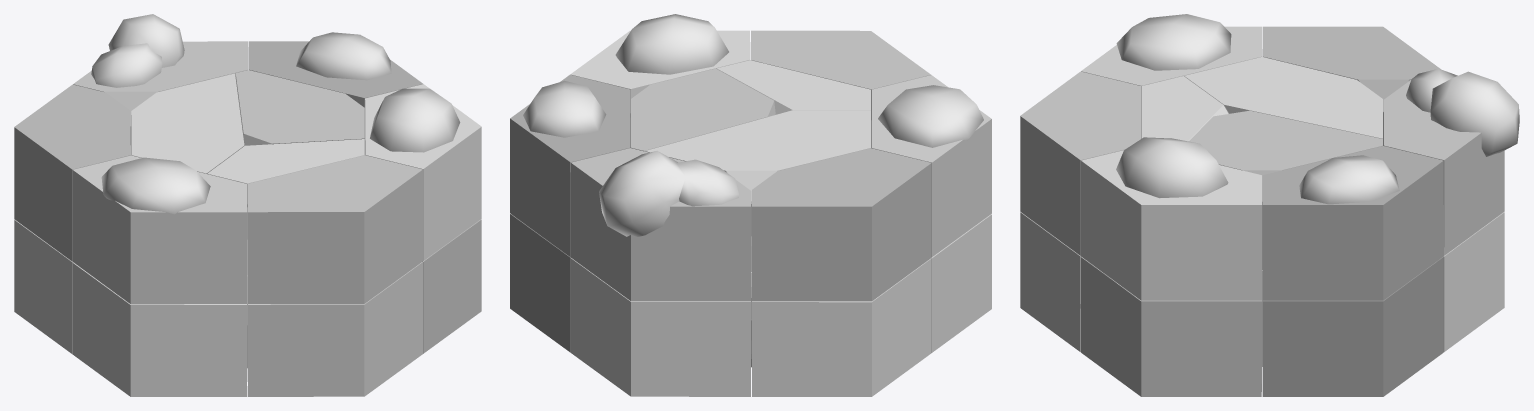
File: 2_Dest_Hex_20.fbx
The picture shows the model from 3 angles, left to right: view 1: azimuth 30°, elevation 25°; view 2: azimuth 150°, elevation 25°; view 3: azimuth 270°, elevation 25°; orthographic projection. The views are drawn at different scales.
Visible parts, largest first — view 1: Hex1.001_cell.023, Hex1.001_cell.021, Hex1.001_cell.020, Hex1.001_cell.022, Hex1.001_cell.019, Hex1.001_cell.025, Hex1.001_cell.015, Hex1.001_cell.012_cell.004, Hex1.001_cell.017, Hex1.001_cell.012_cell.005, Hex1.001_cell.018, Hex1.001_cell.024 (+1 smaller); view 2: Hex1.001_cell.015, Hex1.001_cell.025, Hex1.001_cell.014, Hex1.001_cell.024, Hex1.001_cell.017, Hex1.001_cell.023, Hex1.001_cell.012_cell.004, Hex1.001_cell.019, Hex1.001_cell.012_cell.005, Hex1.001_cell.021, Hex1.001_cell.022, Hex1.001_cell.016 (+1 smaller); view 3: Hex1.001_cell.019, Hex1.001_cell.017, Hex1.001_cell.016, Hex1.001_cell.018, Hex1.001_cell.015, Hex1.001_cell.021, Hex1.001_cell.012_cell.004, Hex1.001_cell.023, Hex1.001_cell.025, Hex1.001_cell.012_cell.005, Hex1.001_cell.014, Hex1.001_cell.020 (+1 smaller).
Part boxes in pixels (x1=…): Hex1.001_cell.023: x1=72, y1=155, x2=247, y2=304; Hex1.001_cell.021: x1=247, y1=155, x2=422, y2=303; Hex1.001_cell.020: x1=247, y1=262, x2=422, y2=396; Hex1.001_cell.022: x1=72, y1=262, x2=247, y2=396; Hex1.001_cell.019: x1=365, y1=84, x2=481, y2=260; Hex1.001_cell.025: x1=14, y1=84, x2=130, y2=261; Hex1.001_cell.015: x1=73, y1=14, x2=247, y2=154; Hex1.001_cell.012_cell.004: x1=131, y1=73, x2=244, y2=173; Hex1.001_cell.017: x1=248, y1=32, x2=422, y2=154; Hex1.001_cell.012_cell.005: x1=235, y1=70, x2=364, y2=145; Hex1.001_cell.018: x1=422, y1=219, x2=481, y2=353; Hex1.001_cell.024: x1=14, y1=219, x2=73, y2=354; Hex1.001_cell.015: x1=570, y1=148, x2=751, y2=301; Hex1.001_cell.025: x1=751, y1=148, x2=931, y2=301; Hex1.001_cell.014: x1=570, y1=258, x2=751, y2=396; Hex1.001_cell.024: x1=752, y1=258, x2=931, y2=396; Hex1.001_cell.017: x1=510, y1=74, x2=630, y2=256; Hex1.001_cell.023: x1=871, y1=75, x2=991, y2=256; Hex1.001_cell.012_cell.004: x1=645, y1=110, x2=870, y2=271; Hex1.001_cell.019: x1=570, y1=14, x2=749, y2=147; Hex1.001_cell.012_cell.005: x1=630, y1=68, x2=775, y2=151; Hex1.001_cell.021: x1=750, y1=30, x2=930, y2=148; Hex1.001_cell.022: x1=931, y1=214, x2=991, y2=352; Hex1.001_cell.016: x1=510, y1=213, x2=570, y2=352; Hex1.001_cell.019: x1=1081, y1=137, x2=1261, y2=300; Hex1.001_cell.017: x1=1262, y1=146, x2=1443, y2=300; Hex1.001_cell.016: x1=1262, y1=256, x2=1443, y2=396; Hex1.001_cell.018: x1=1081, y1=257, x2=1261, y2=396; Hex1.001_cell.015: x1=1383, y1=68, x2=1519, y2=255; Hex1.001_cell.021: x1=1020, y1=71, x2=1140, y2=255; Hex1.001_cell.012_cell.004: x1=1184, y1=57, x2=1382, y2=138; Hex1.001_cell.023: x1=1081, y1=14, x2=1261, y2=138; Hex1.001_cell.025: x1=1262, y1=26, x2=1440, y2=145; Hex1.001_cell.012_cell.005: x1=1189, y1=110, x2=1382, y2=270; Hex1.001_cell.014: x1=1443, y1=212, x2=1504, y2=351; Hex1.001_cell.020: x1=1020, y1=212, x2=1081, y2=352.
Size of the model in its own units: 1.01 by 0.6038 by 1.19.
